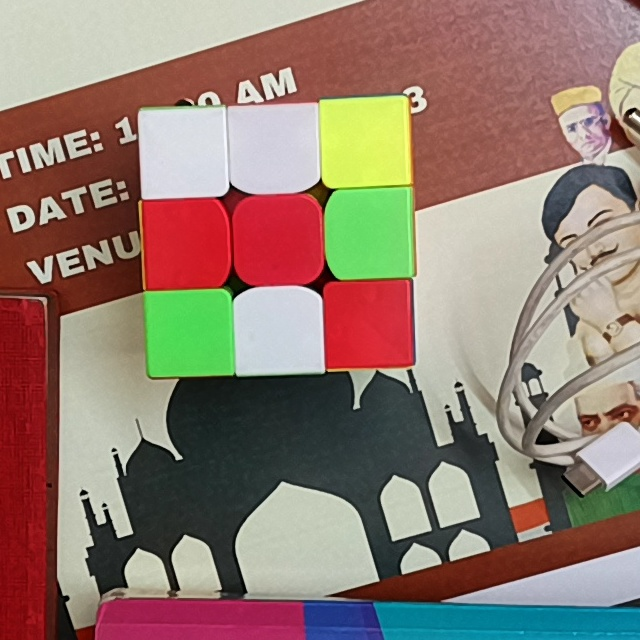tile: (145, 111, 222, 191), (332, 285, 408, 361), (234, 109, 313, 182), (327, 106, 405, 179), (337, 195, 408, 269), (152, 301, 228, 370), (238, 300, 316, 367), (150, 205, 220, 279), (241, 205, 313, 276)
